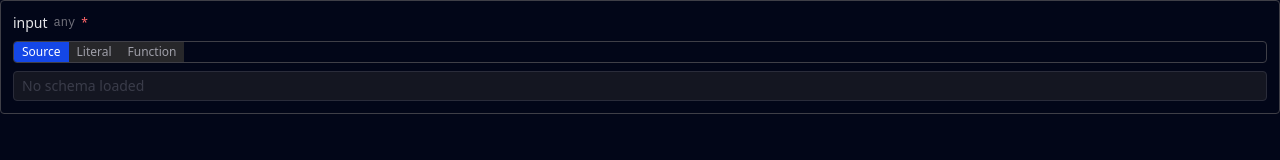
Test: ArgumentSlot › function mode — renders nested builder content when selected
Step 1. Click the radio button labelled "Function" → (152,52), box x1=120 y1=42 x2=184 y2=62
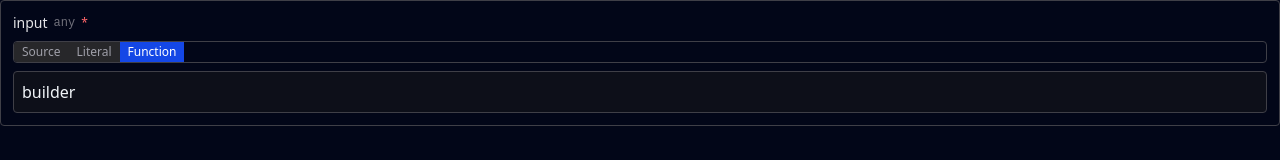
Expected: the text "builder" is shown, x1=22 y1=81 x2=76 y2=103
